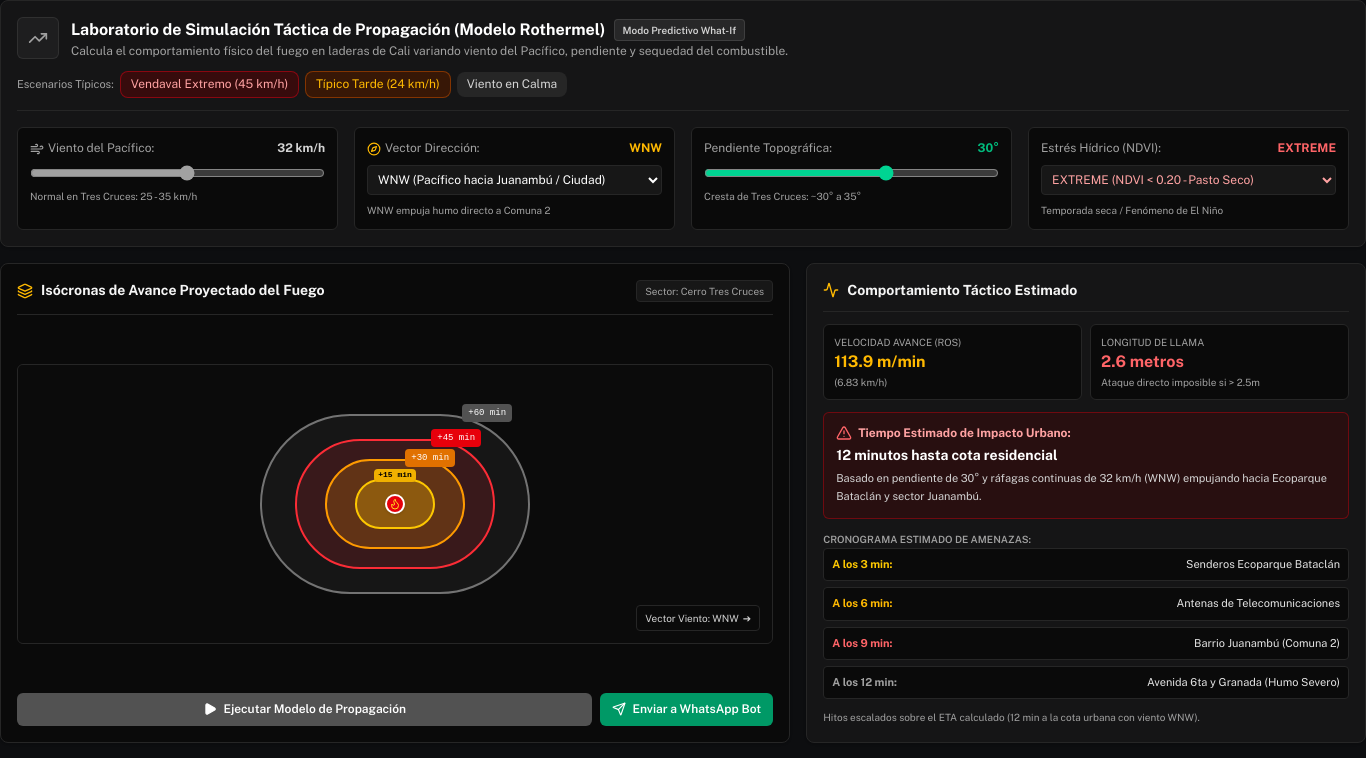
Test case: FireSpreadSimulator › muestra el error del servidor (422) en caja y toast
Click the button "Ejecutar Modelo de Propagación": {"x": 305, "y": 709} [17,693,592,726]
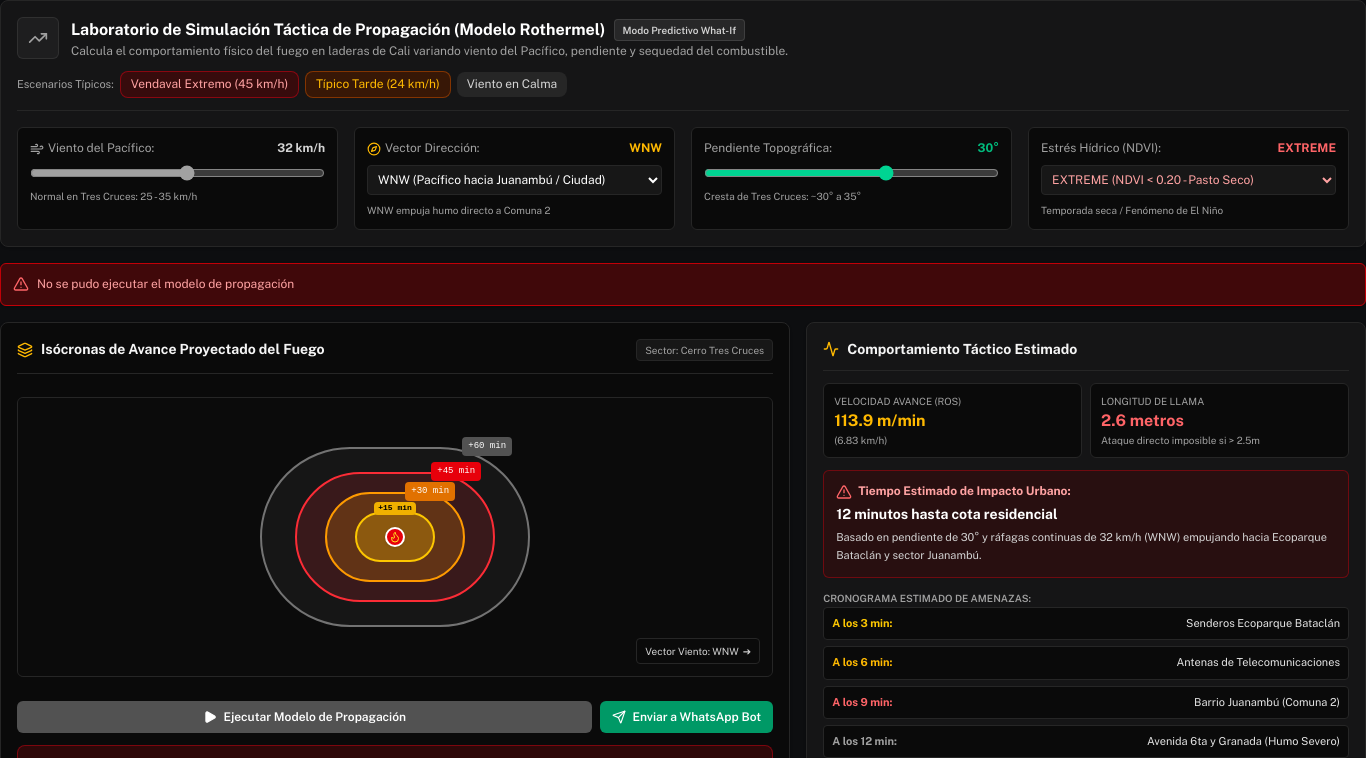
Expected: the message "No se pudo ejecutar el modelo de propagación" is shown, [0,263,1365,306]
